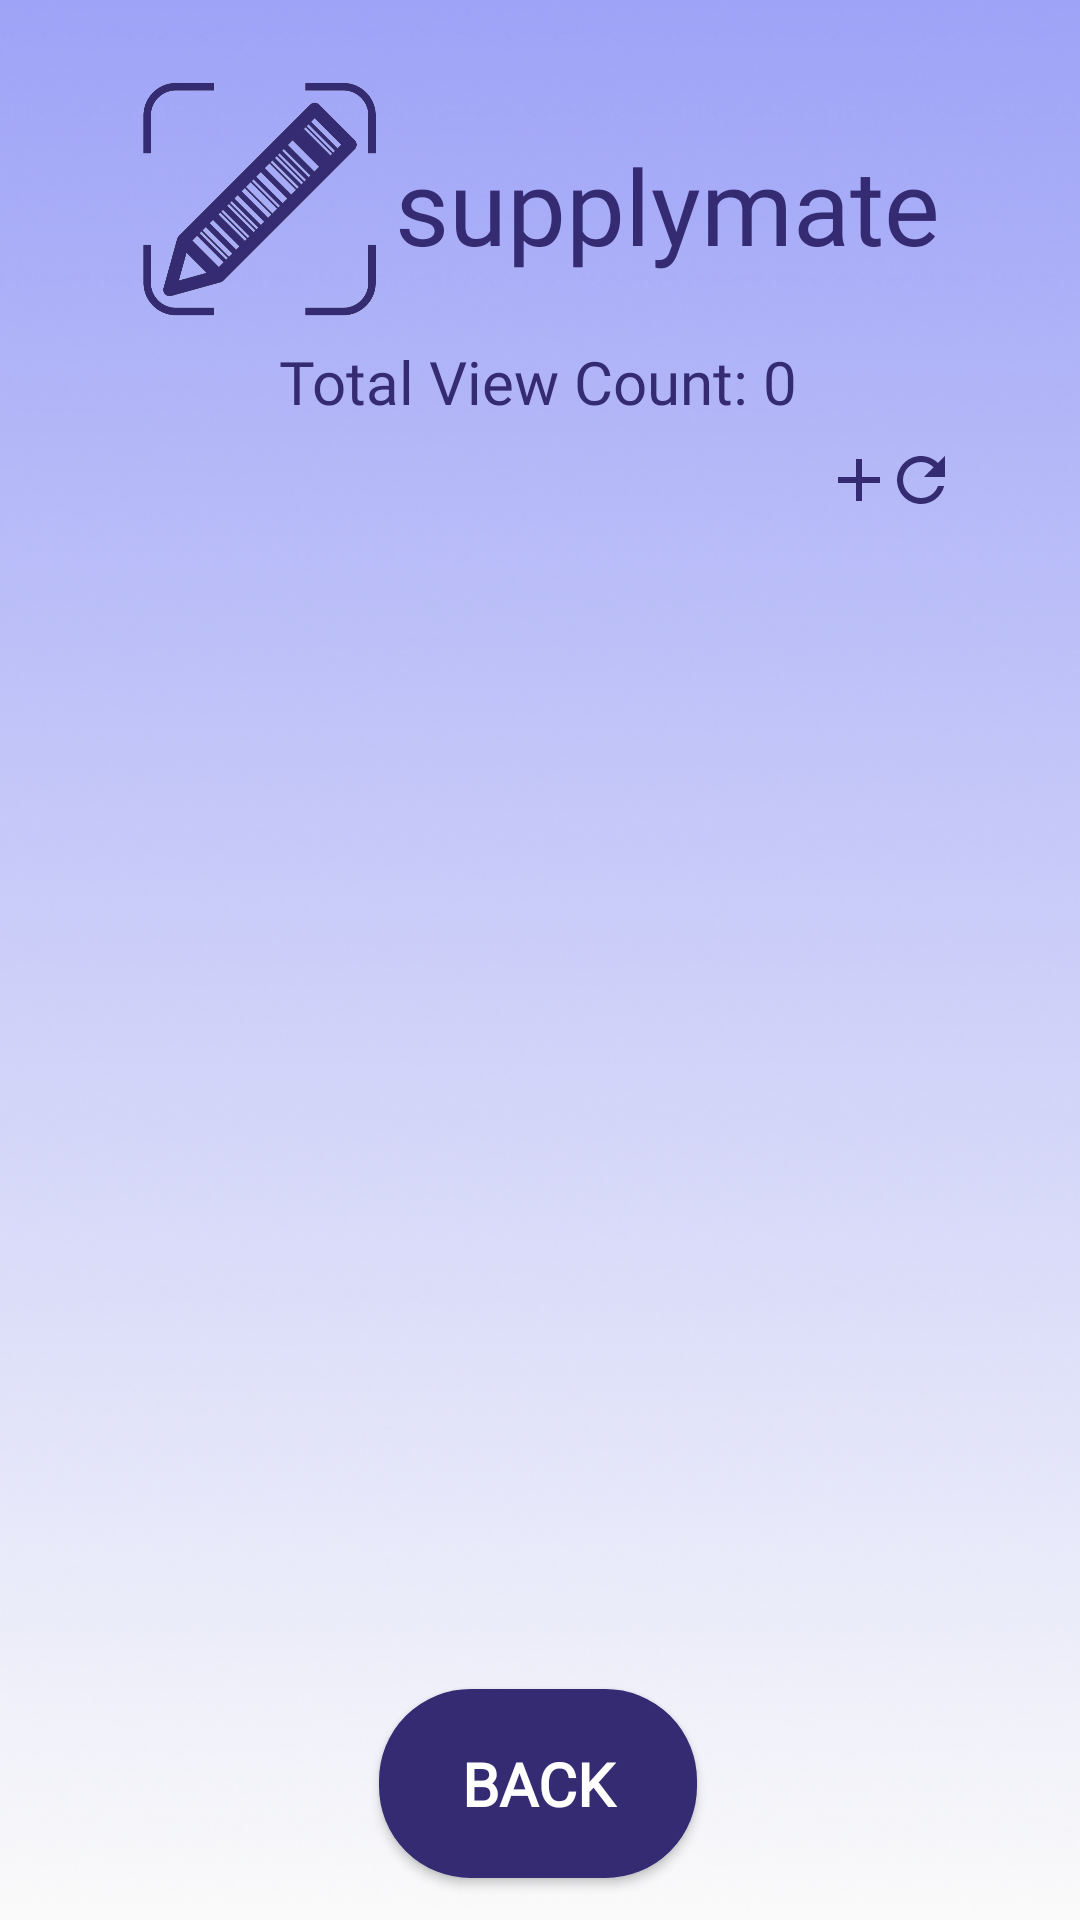

Icon click points for this 1080 x 1920 phone screenshot, format point (x, y):
add: point (859, 480)
refresh: point (921, 480)
